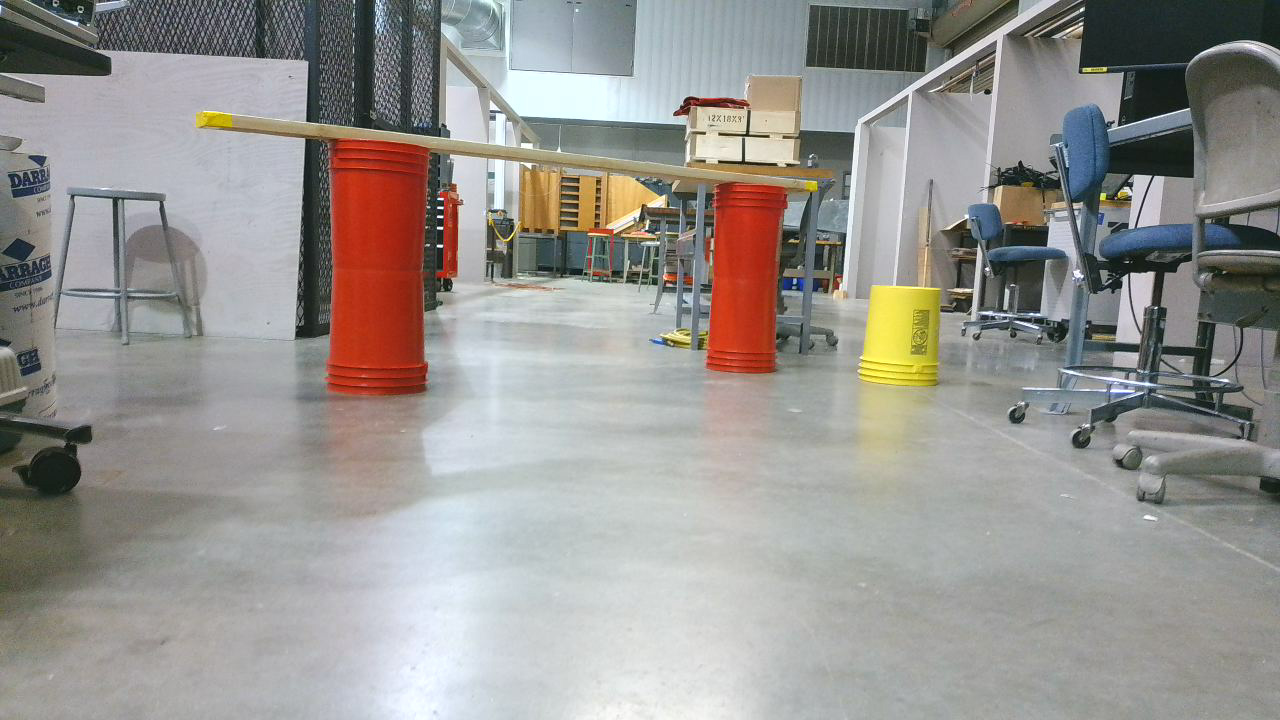red_bucket_arch: (280, 115, 812, 393)
yellow_bucket: (872, 286, 944, 390)
